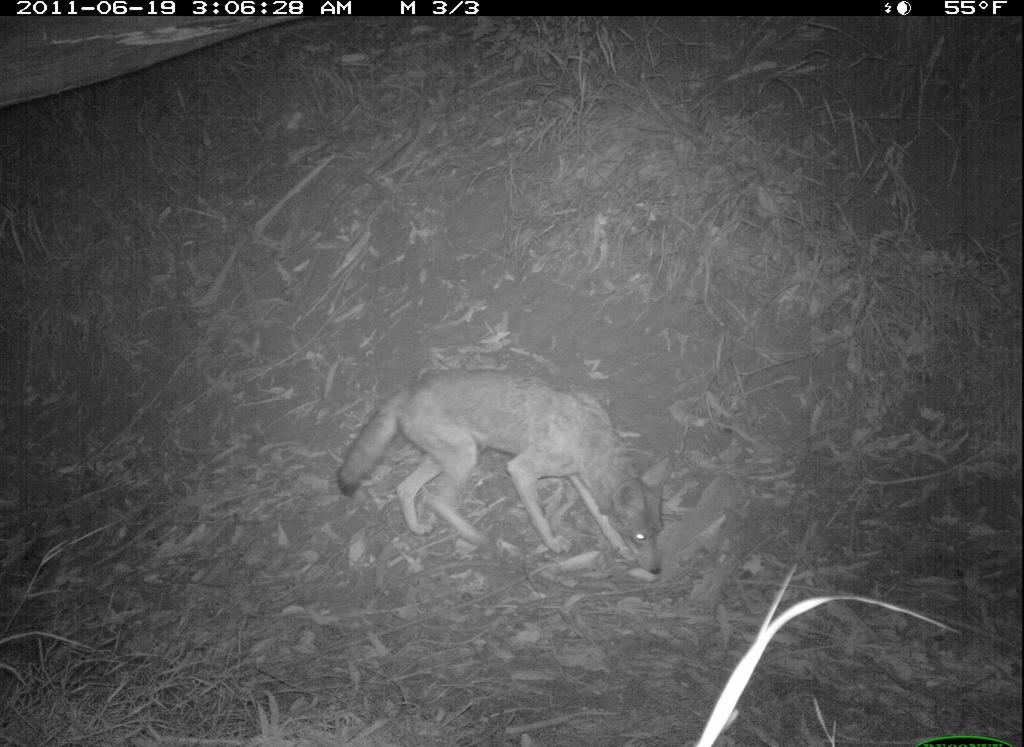coyote: (346, 359, 688, 587)
